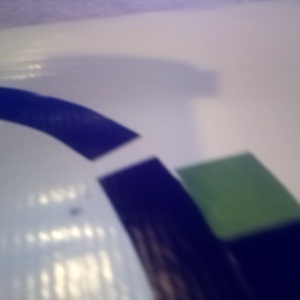bottom_right: (55, 29, 147, 58)
